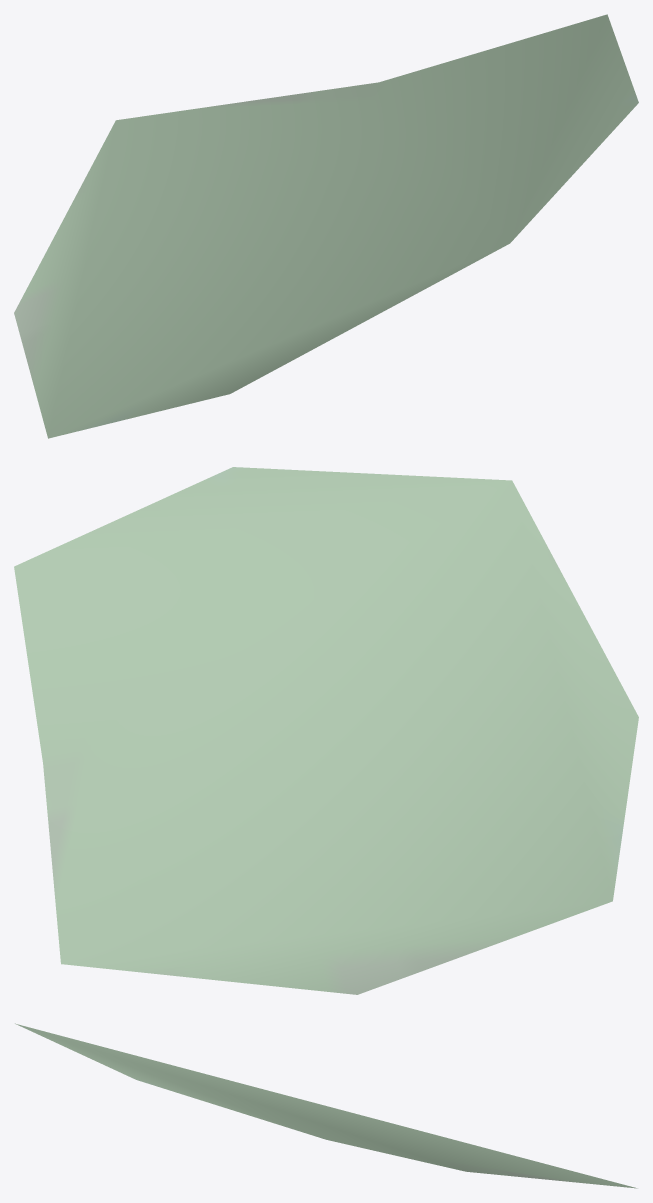
The model's file is TROLLHOLE02_HOLECAP110.fbx.
The picture shows the model from 3 angles, top to bottom: view 1: azimuth 30°, elevation 25°; view 2: azimuth 150°, elevation 25°; view 3: azimuth 270°, elevation 25°; orthographic projection. The views are drawn at different scales.
Parts seen in each view (by area): view 1: TROLLHOLE02_HOLECAP110; view 2: TROLLHOLE02_HOLECAP110; view 3: TROLLHOLE02_HOLECAP110.
Part boxes in pixels (box(x1,y1,x2,y2)): TROLLHOLE02_HOLECAP110: box(14, 14, 638, 438); TROLLHOLE02_HOLECAP110: box(14, 467, 638, 994); TROLLHOLE02_HOLECAP110: box(15, 1023, 637, 1188).
Bounding box in the file's own units: 16880 × 7953 × 21369.
1 material, 1 textured.
